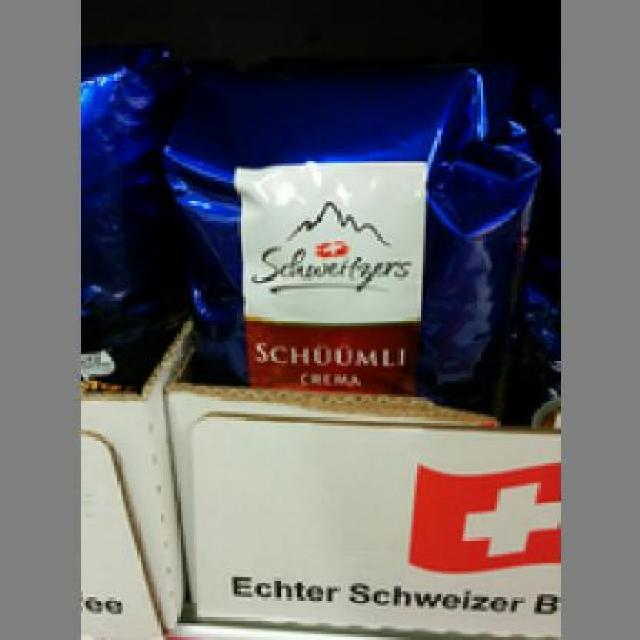Coffee: (168, 54, 528, 420)
